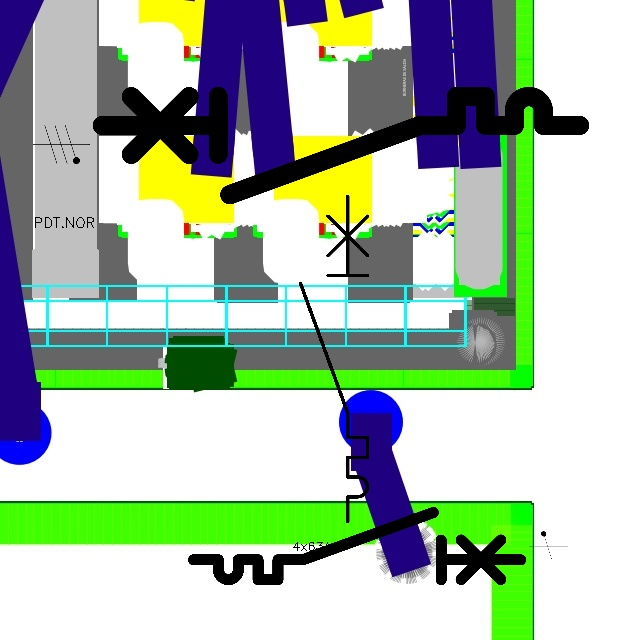interruptor_termomagnetico: (89, 84, 591, 207), (185, 504, 529, 588), (292, 188, 376, 530)
